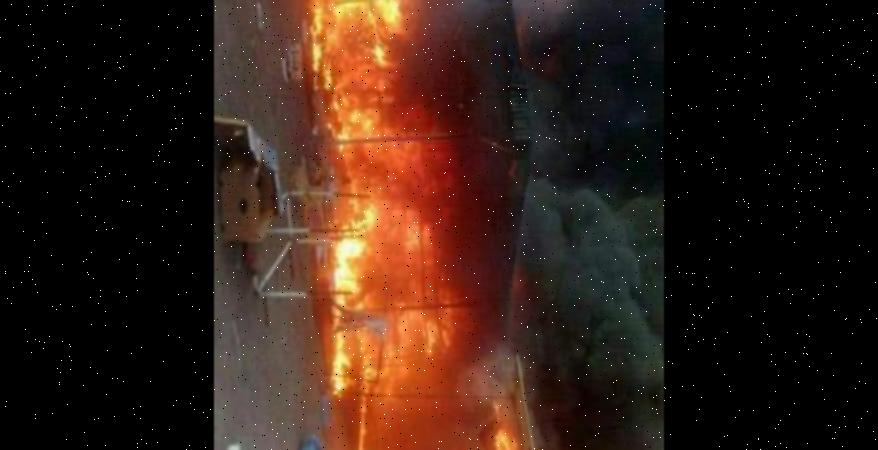fire: (297, 0, 477, 372)
